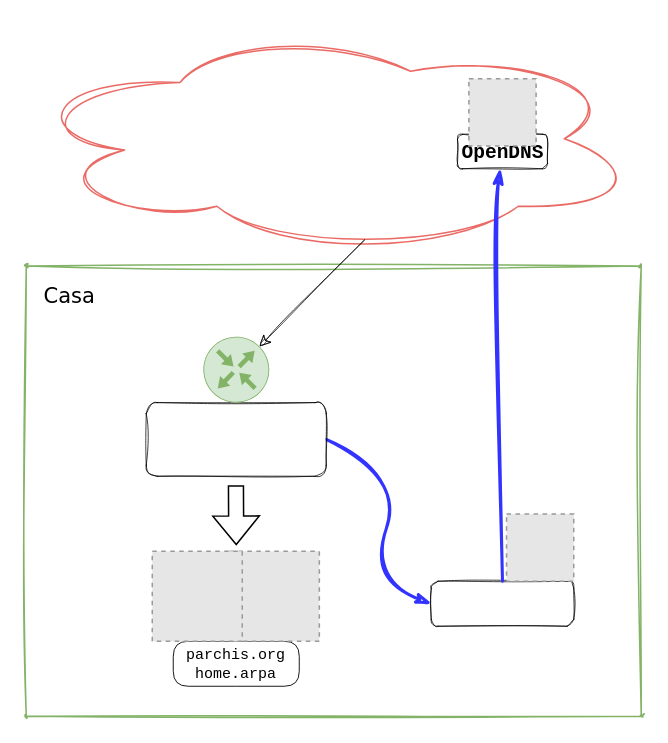
Image size: 668x743. Some labels were removed from this diagram. Grey dashed boxes stand in for pictures. The box of each missing label's shape, as (x1, y1, x2, y2) in pixels:
cortafuegix 192.168.100.1: (145, 402, 326, 476)
pihole 192.168.100.244: (430, 580, 573, 626)
